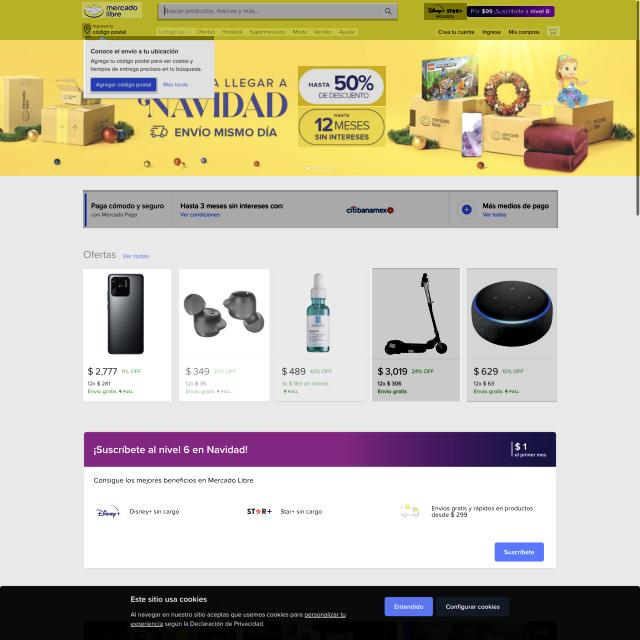CheckBox: (298, 66, 386, 106), (298, 107, 386, 147), (90, 77, 158, 94), (467, 5, 554, 18), (162, 80, 190, 90)
CheckedTextView: (157, 4, 398, 21)
ImageView: (84, 432, 556, 568), (83, 190, 558, 228)
Spinner: (467, 268, 557, 402), (84, 269, 174, 402), (275, 269, 365, 402), (179, 269, 270, 400), (372, 268, 460, 401)
alert: (157, 27, 193, 34)
bag: (0, 0, 636, 40)
card: (1, 40, 636, 176)
carousel: (82, 23, 91, 38), (547, 26, 560, 36)
date picker: (82, 2, 142, 18), (424, 3, 467, 20)
decoration: (156, 28, 358, 36), (435, 28, 542, 36)
label: (85, 36, 214, 99)
